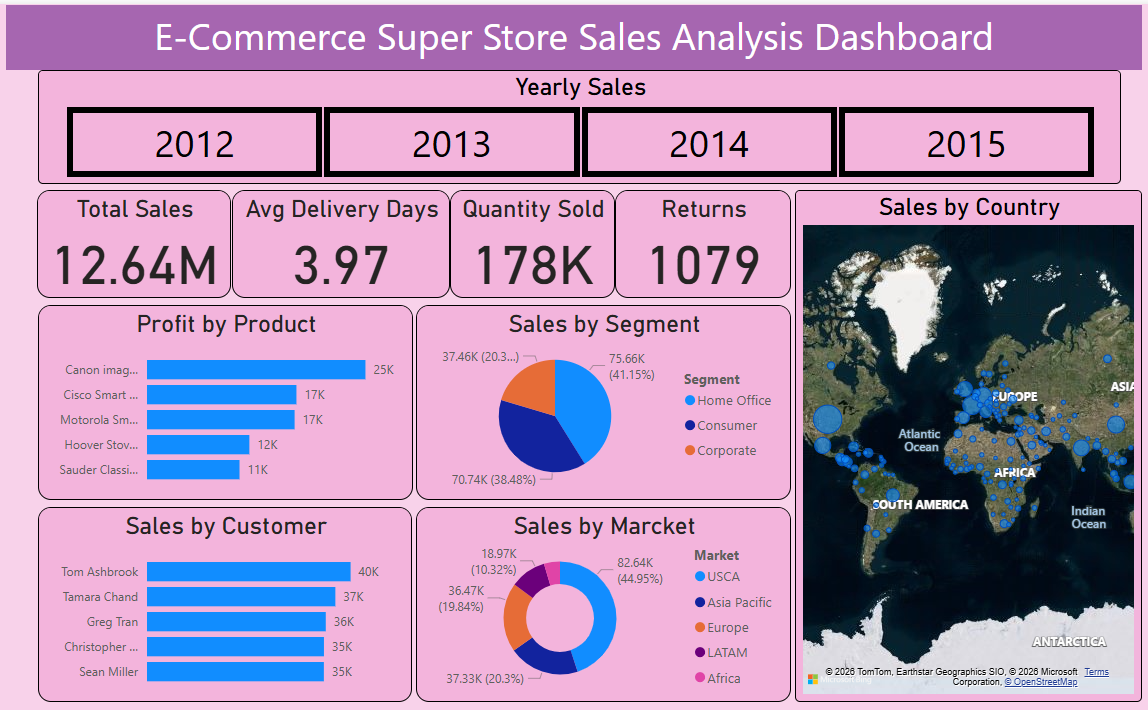

What the dashboard file says about the page in this screenshot:
{"tool":"powerbi","page":{"name":"Page 1","canvas":[1280,720],"ordinal":0},"visuals":[{"type":"textbox","box":[72,1,1136.4,65.2],"z":0},{"type":"card","title":"Total Sales","fields":{"Values":["Sum(Orders.Sales)"]},"box":[103.1,185.8,193.6,108],"z":1000},{"type":"slicer","title":"Yearly Sales","fields":{"Values":["Orders.Year"]},"box":[103.8,66.1,1083.3,113.6],"z":2000},{"type":"card","title":"Avg Delivery Days","fields":{"Values":["Avg(Orders.Delivery Time)"]},"box":[297.6,185.8,217.9,108],"z":3000},{"type":"card","title":"Quantity Sold","fields":{"Values":["Sum(Orders.Quantity)"]},"box":[516.5,185.8,164.4,108],"z":4000},{"type":"card","title":"Returns","fields":{"Values":["Sum(Returns.Returns Made)"]},"box":[680.9,185.8,176,108],"z":5000},{"type":"clusteredBarChart","title":"Profit by Product","fields":{"Category":["Orders.Product Name"],"Y":["Sum(Orders.Profit)"]},"box":[104.1,300.5,374.5,195.5],"z":6000},{"type":"clusteredBarChart","title":"Sales by Customer","fields":{"Y":["Sum(Orders.Sales)"],"Category":["Orders.Customer Name"]},"box":[103.8,502.8,374.5,195.5],"z":7000},{"type":"pieChart","title":"Sales by Segment","fields":{"Category":["Orders.Segment"],"Y":["Sum(Orders.Sales)"]},"box":[482.4,300.5,374.5,195.5],"z":8000},{"type":"donutChart","title":"Sales by Marcket","fields":{"Category":["Orders.Market"],"Y":["Sum(Orders.Sales)"]},"box":[482,502.8,374.5,195.5],"z":9000},{"type":"map","title":"Sales by Country","fields":{"Category":["Orders.Country"],"Size":["Sum(Orders.Sales)"]},"box":[860.8,185.8,347.2,512.6],"z":10000}]}

Visuals, with their boxes on the page's 1280x720 design canvas (x1, y1, x2, y2). These are canvas units, not pixel positions in the 1148x710 screenshot, which may show the page scaled, cropped or inside an application window:
textbox: <bbox>72, 1, 1208, 66</bbox>
"Total Sales" card: <bbox>103, 186, 297, 294</bbox>
"Yearly Sales" slicer: <bbox>104, 66, 1187, 180</bbox>
"Avg Delivery Days" card: <bbox>298, 186, 516, 294</bbox>
"Quantity Sold" card: <bbox>516, 186, 681, 294</bbox>
"Returns" card: <bbox>681, 186, 857, 294</bbox>
"Profit by Product" clusteredBarChart: <bbox>104, 300, 479, 496</bbox>
"Sales by Customer" clusteredBarChart: <bbox>104, 503, 478, 698</bbox>
"Sales by Segment" pieChart: <bbox>482, 300, 857, 496</bbox>
"Sales by Marcket" donutChart: <bbox>482, 503, 856, 698</bbox>
"Sales by Country" map: <bbox>861, 186, 1208, 698</bbox>
